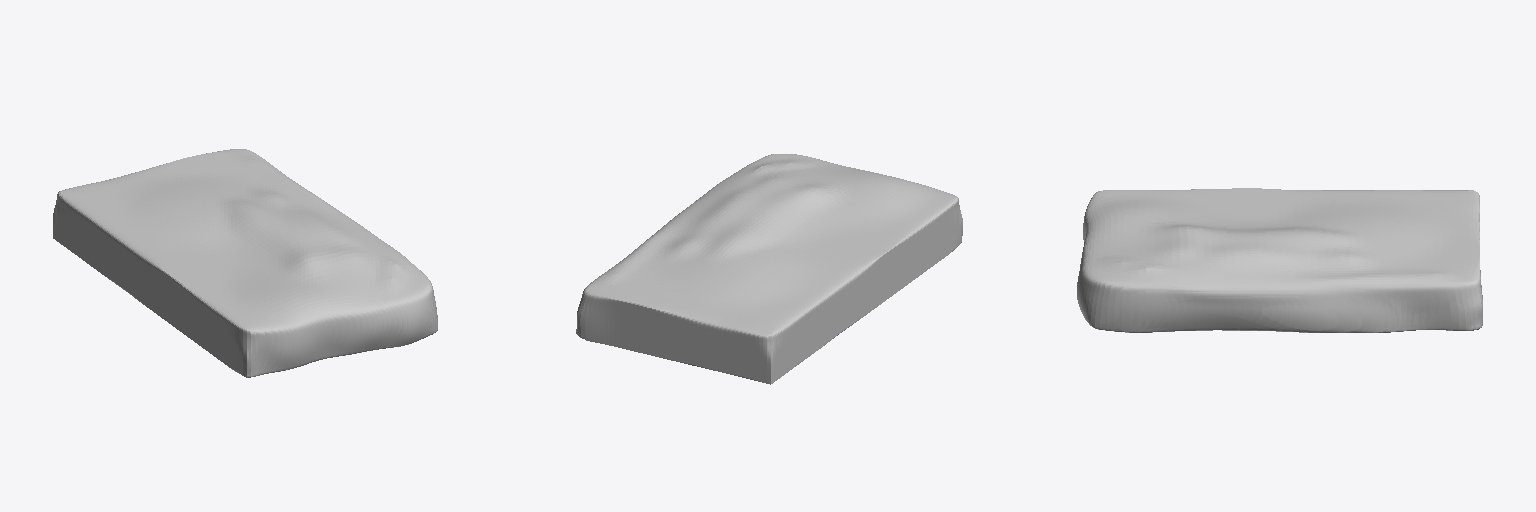
Rendered from Mattress.obj.
3 views of the same model, side by side, from view 1: azimuth 30°, elevation 25°; view 2: azimuth 150°, elevation 25°; view 3: azimuth 270°, elevation 25° (orthographic).
Parts seen in each view (by area): view 1: mattress; view 2: mattress; view 3: mattress.
Part boxes in pixels (bbox=[...]): mattress: bbox=[53, 149, 437, 377]; mattress: bbox=[576, 154, 962, 384]; mattress: bbox=[1077, 188, 1482, 332].
Bounding box in the file's own units: 25.35 × 7.12 × 43.28.